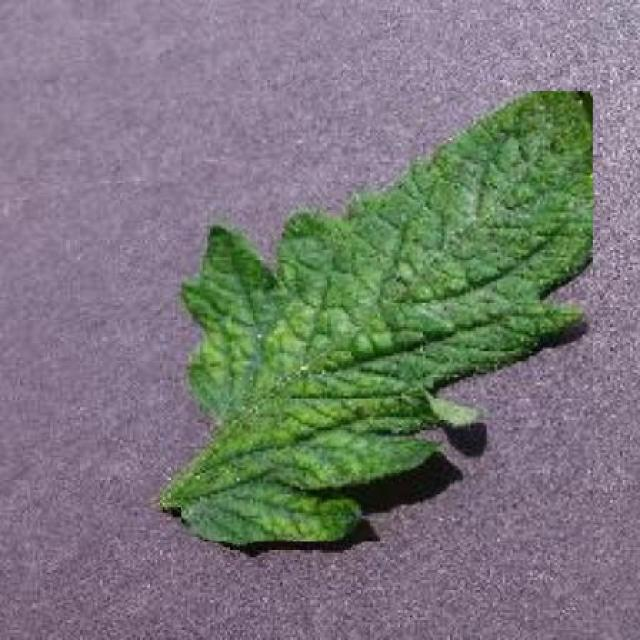Mosaic Virus: (181, 90, 593, 541)
